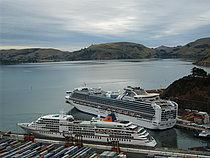Ship: (16, 108, 161, 151), (64, 80, 182, 132)
